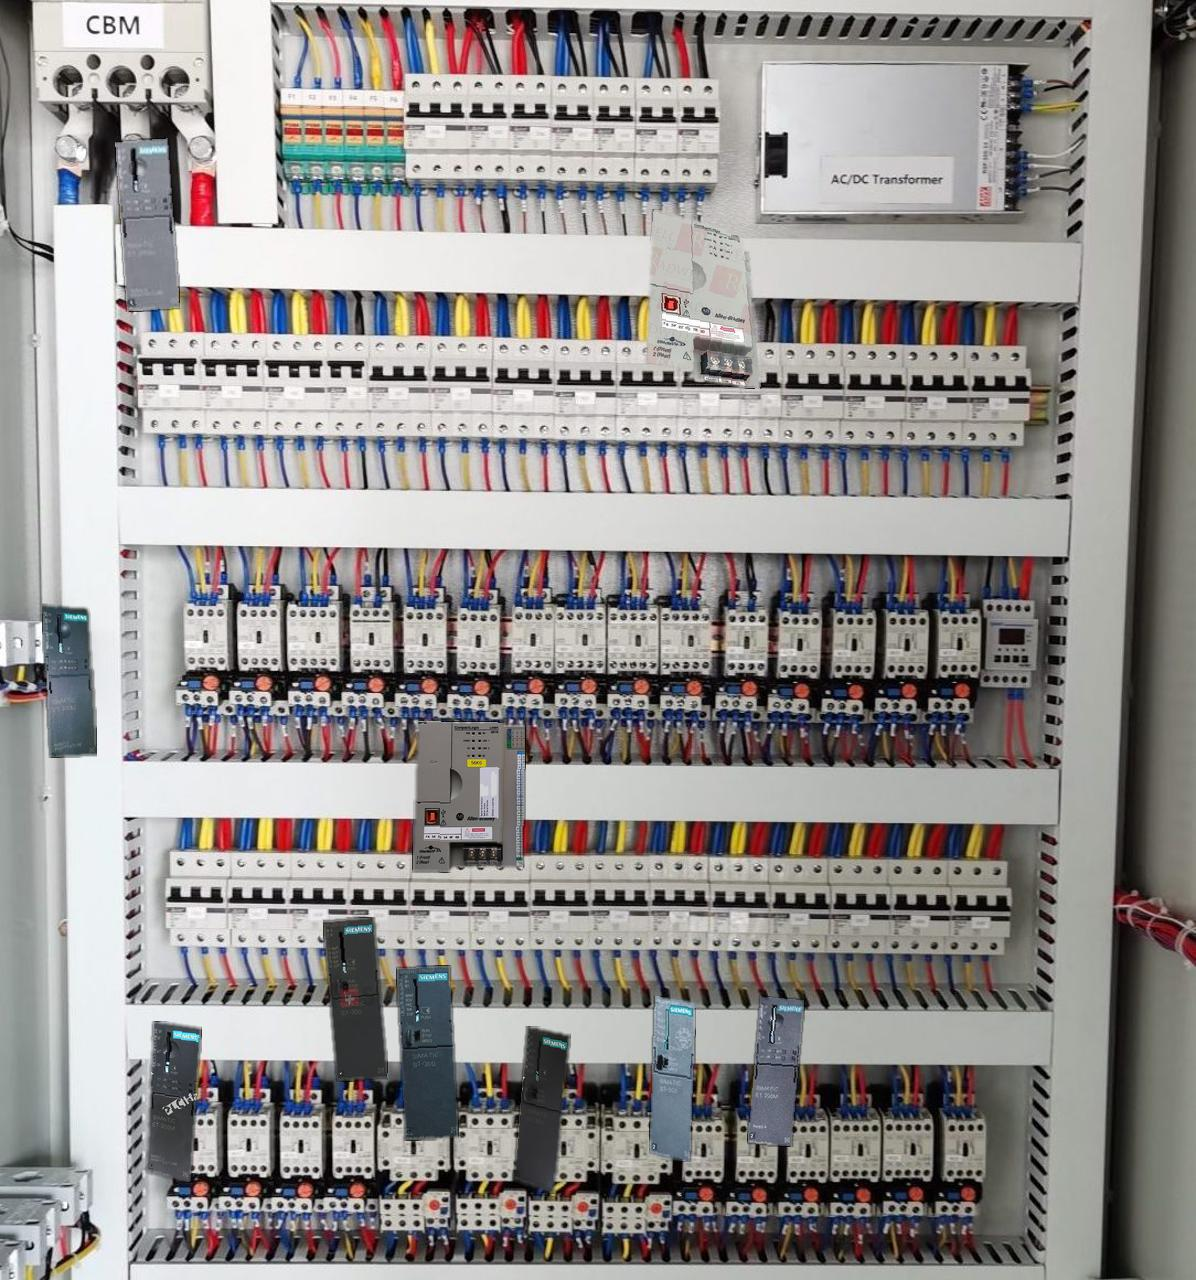AllenBradley: (645, 209, 760, 388), (413, 721, 524, 871)
Siemens: (323, 917, 387, 1081), (397, 966, 457, 1140), (514, 1026, 569, 1192), (650, 996, 694, 1161)
